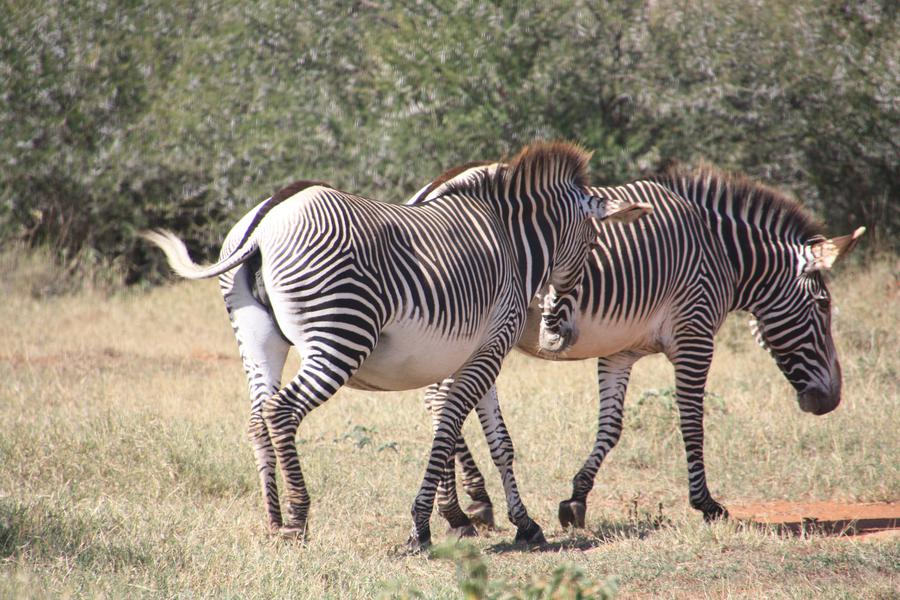zebra_grevys: (241, 188, 511, 359)
